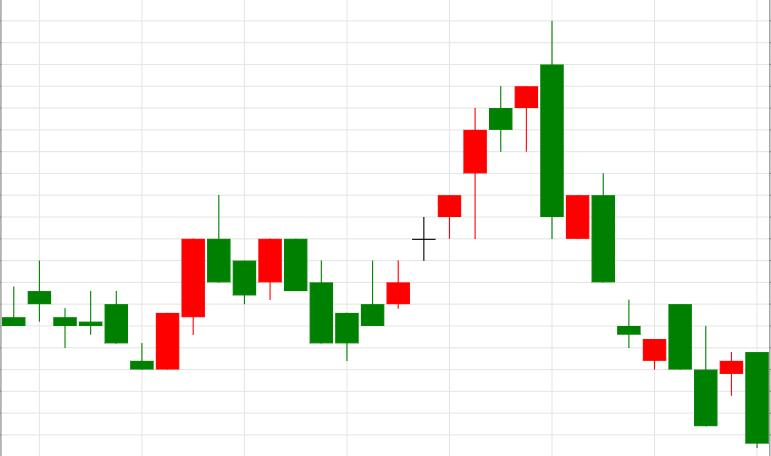bearish_engulfing_fall: (386, 21, 563, 309)
bullish_engulfing_rise: (28, 262, 178, 370)
